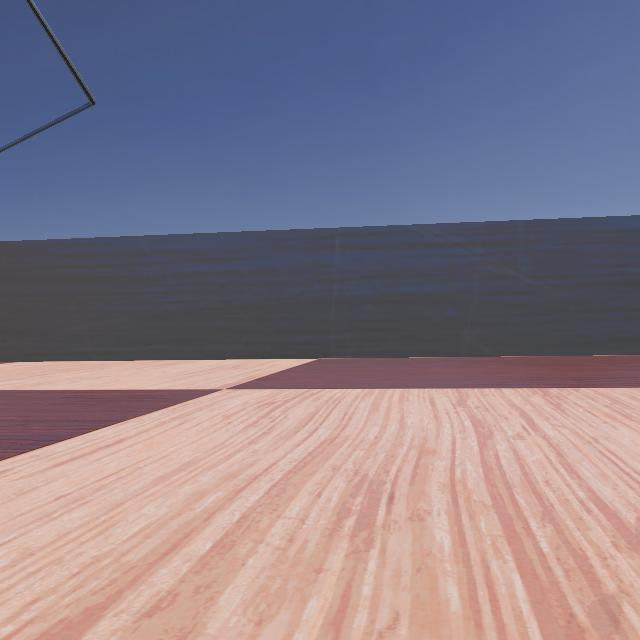paint-bucket: (0, 0, 134, 174)
